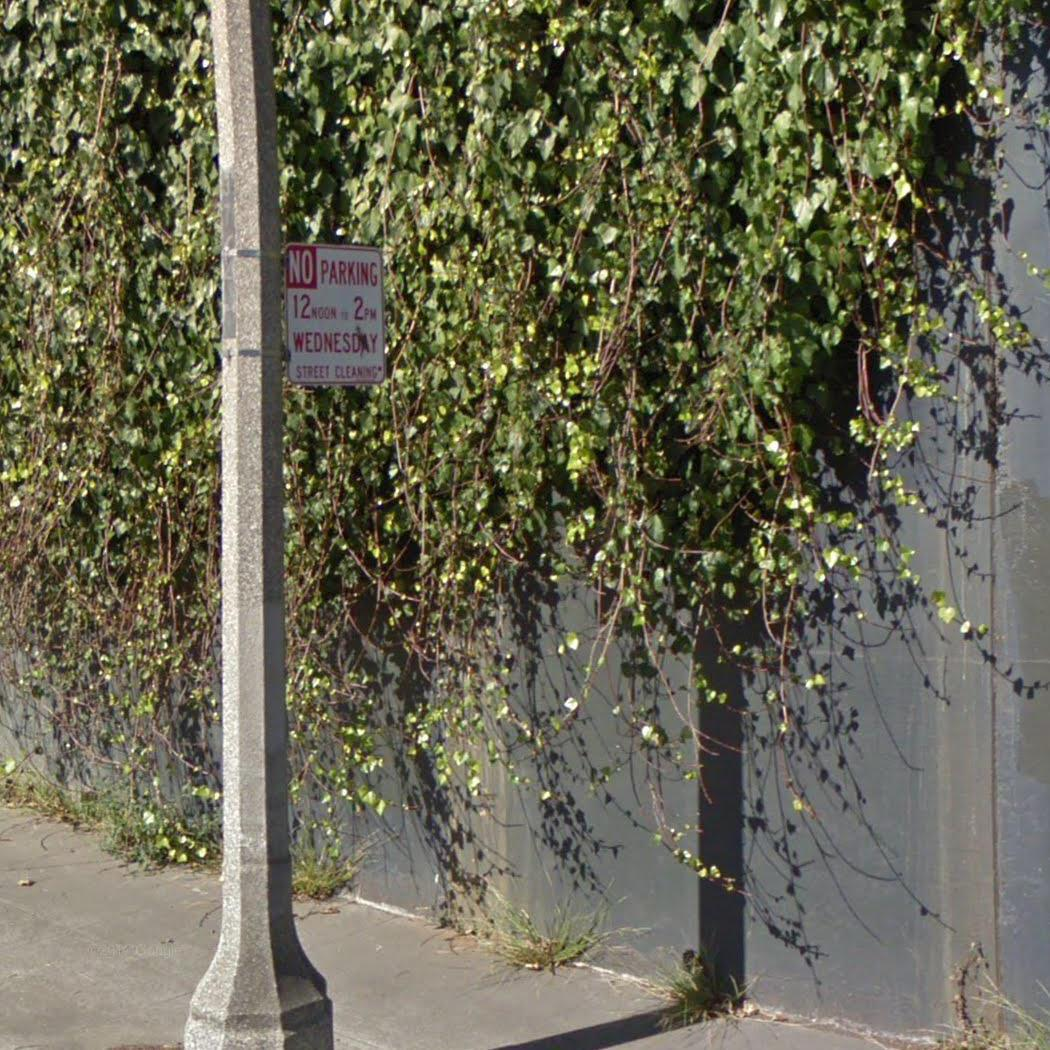No Parking: (282, 242, 391, 382)
